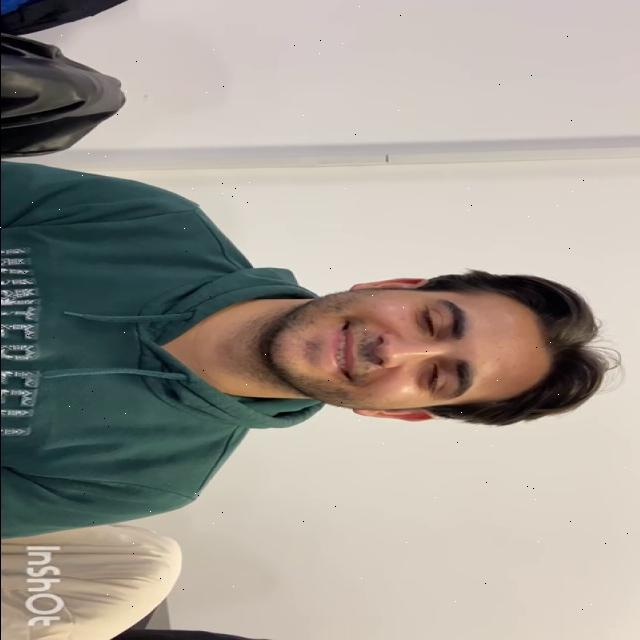happy: (262, 289, 548, 409)
